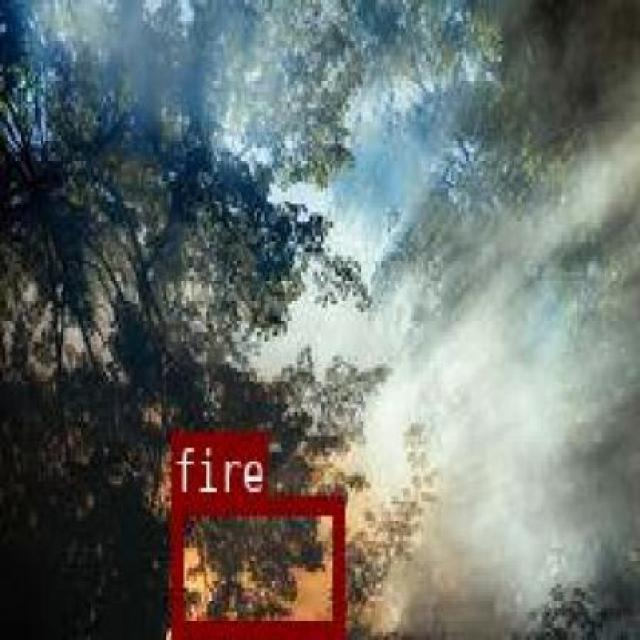fire: (169, 496, 340, 633)
